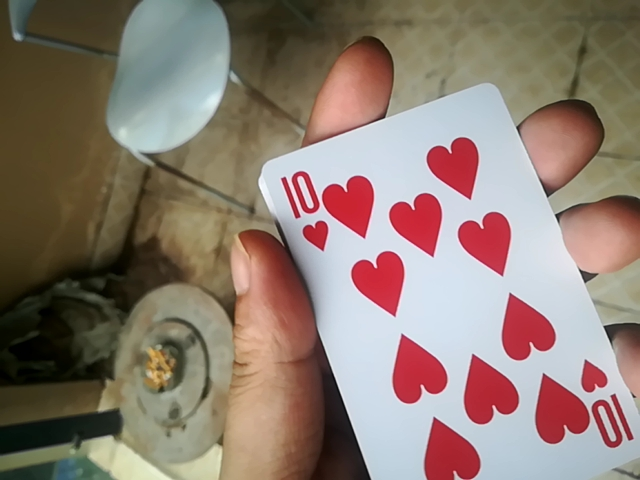hx 10: (264, 76, 628, 480)
